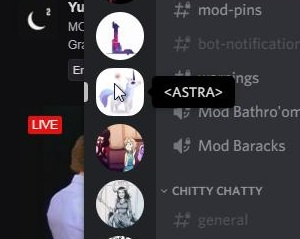cursor: (109, 79, 129, 104)
